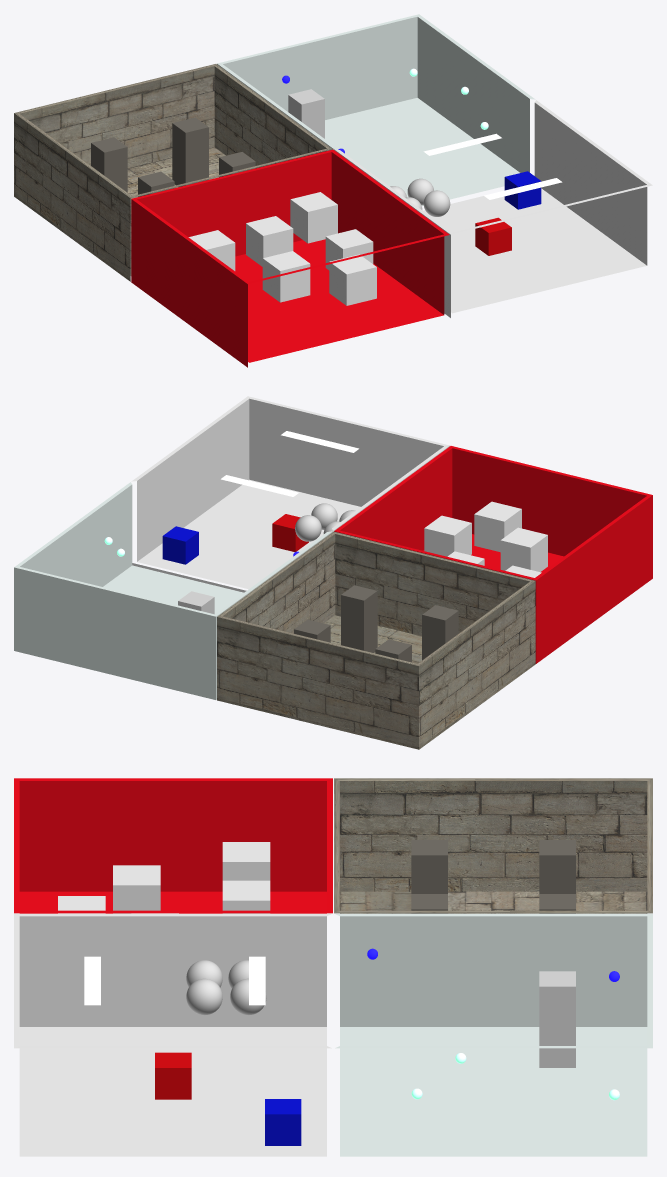
The model's file is bench-simple.gltf.
3 views of the same model, one above another, from view 1: azimuth 30°, elevation 25°; view 2: azimuth 150°, elevation 25°; view 3: azimuth 270°, elevation 25° (orthographic). The views are drawn at different scales.
Visible parts, largest first — view 1: floor.003, floor.001, floor.002, floor, red cube.003, blue cube.004, blue cube.006, blue cube.001, blue cube.002, red cube.001, blue cube.003, red cube.005 (+6 smaller); view 2: floor.002, floor, floor.003, floor.001, red cube.004, blue cube.004, blue cube.006, blue cube.003, red cube.002, blue cube, red cube, Debug (+3 smaller); view 3: floor.001, floor, floor.002, floor.003, red cube.005, blue cube.004, red cube.001, red cube.002, blue cube.005, red cube, blue cube, blue cube.002 (+8 smaller).
Boxes of the visible parts, x1=… form: floor.003: x1=131, y1=149, x2=449, y2=367; floor.001: x1=217, y1=14, x2=535, y2=206; floor.002: x1=14, y1=64, x2=332, y2=281; floor: x1=334, y1=100, x2=652, y2=317; red cube.003: x1=172, y1=117, x2=208, y2=186; blue cube.004: x1=262, y1=251, x2=310, y2=302; blue cube.006: x1=329, y1=254, x2=376, y2=305; blue cube.001: x1=290, y1=192, x2=337, y2=243; blue cube.002: x1=246, y1=216, x2=293, y2=266; red cube.001: x1=91, y1=137, x2=127, y2=192; blue cube.003: x1=325, y1=229, x2=373, y2=270; red cube.005: x1=288, y1=89, x2=324, y2=138; floor.002: x1=217, y1=531, x2=535, y2=749; floor: x1=131, y1=396, x2=449, y2=592; floor.003: x1=334, y1=446, x2=652, y2=663; floor.001: x1=14, y1=482, x2=332, y2=699; red cube.004: x1=341, y1=585, x2=377, y2=652; blue cube.004: x1=500, y1=527, x2=547, y2=571; blue cube.006: x1=474, y1=501, x2=521, y2=552; blue cube.003: x1=424, y1=515, x2=471, y2=556; red cube.002: x1=422, y1=605, x2=458, y2=660; blue cube: x1=162, y1=526, x2=198, y2=564; red cube: x1=272, y1=514, x2=308, y2=551; Debug: x1=295, y1=515, x2=321, y2=541; floor.001: x1=334, y1=913, x2=652, y2=1156; floor: x1=14, y1=913, x2=332, y2=1156; floor.002: x1=334, y1=778, x2=652, y2=913; floor.003: x1=14, y1=778, x2=332, y2=913; red cube.005: x1=539, y1=971, x2=575, y2=1067; blue cube.004: x1=113, y1=865, x2=160, y2=913; red cube.001: x1=539, y1=840, x2=575, y2=893; red cube.002: x1=411, y1=840, x2=447, y2=893; blue cube.005: x1=222, y1=842, x2=270, y2=880; red cube: x1=155, y1=1052, x2=191, y2=1099; blue cube: x1=265, y1=1099, x2=301, y2=1145; blue cube.002: x1=222, y1=880, x2=270, y2=913.
Size of the model in its own units: 34.93 by 6.88 by 34.93.
Materials: 16 (1 with a texture image).
